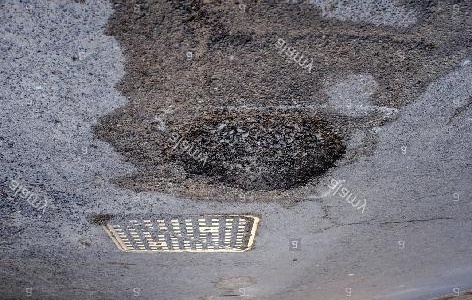pothole: (157, 110, 347, 193)
